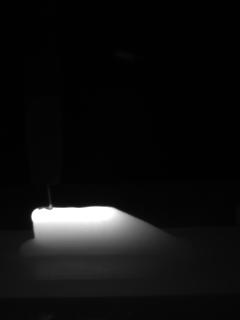tip_wire_left: (32, 180, 52, 208)
tip_wire_right: (49, 180, 60, 208)
